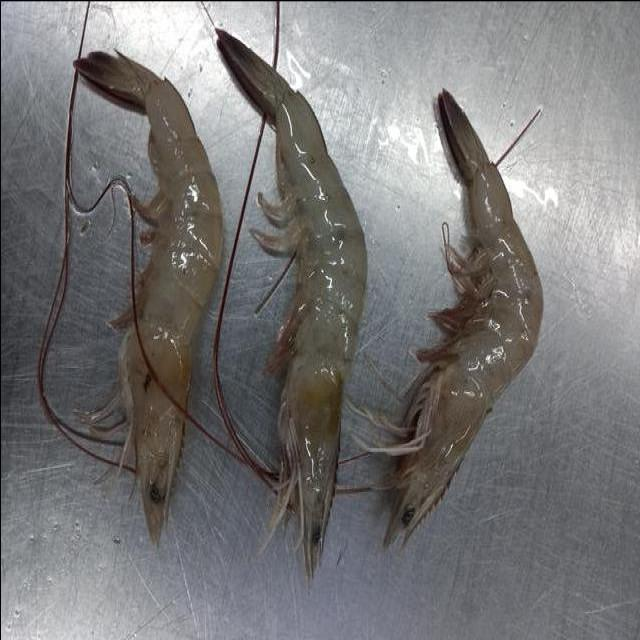shrimp: (216, 29, 366, 580), (382, 89, 541, 547), (75, 51, 222, 543)
